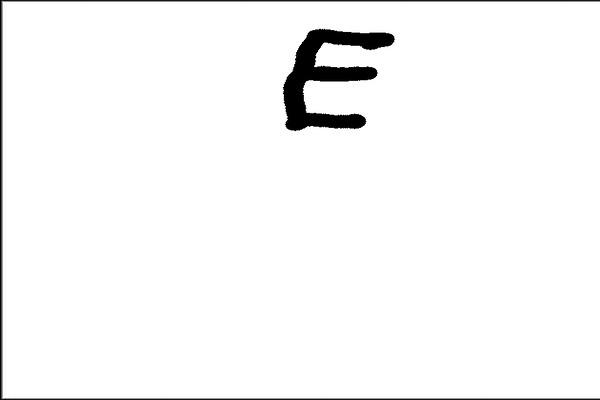E: (277, 23, 396, 135)
